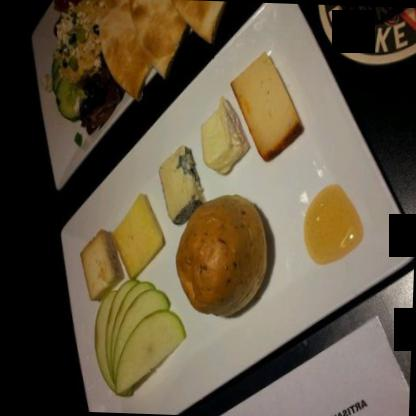bread: (173, 196, 273, 320)
